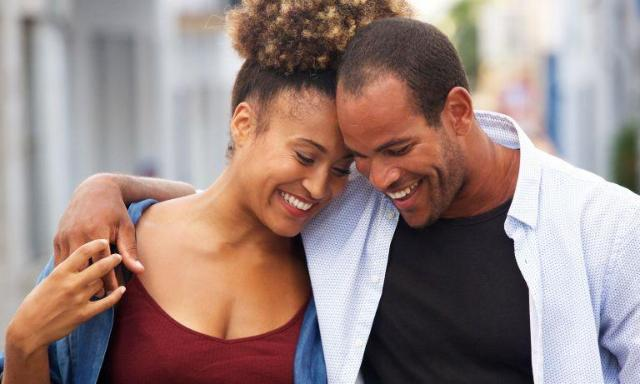person: (310, 16, 636, 380), (29, 30, 353, 382)
